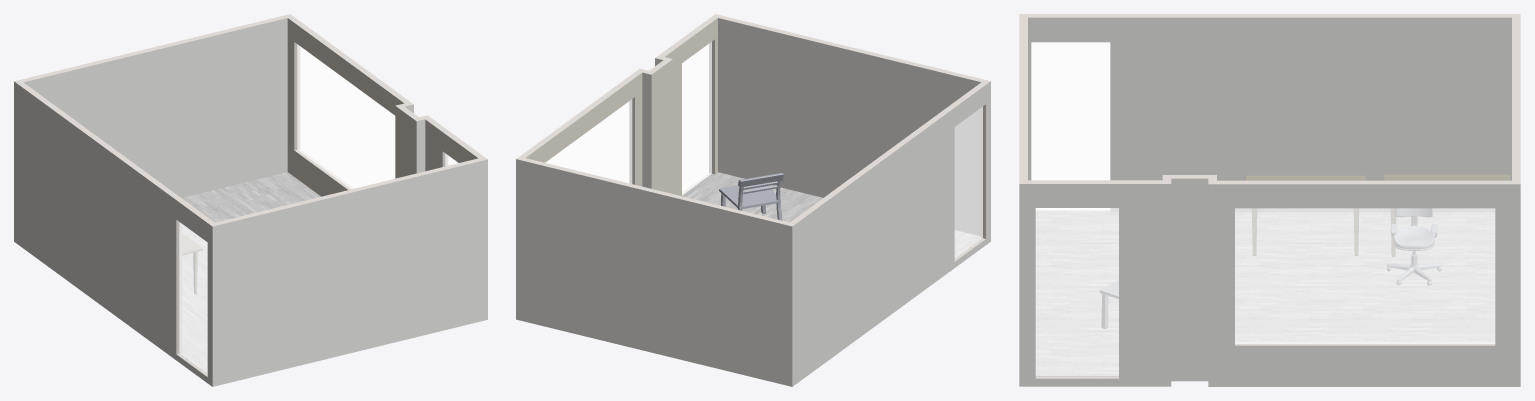
The model's file is MusicRoom1Model.glb.
3 renders of one model, left to right at view 1: azimuth 30°, elevation 25°; view 2: azimuth 150°, elevation 25°; view 3: azimuth 270°, elevation 25°, orthographic. The views are drawn at different scales.
Visible parts, largest first — view 1: wall_7, wall_14, wall_2, window_0, window_2, floor_Other, wall_10, door_1, door_3, wall_13, wall_11, wall_8 (+6 smaller); view 2: wall_3, wall_22, wall_2, door_0, door_2, window_0, door_1, door_3, window_2, wall_10, wall_8, floor_Other (+8 smaller); view 3: wall_12, floor_Other, window_0, window_2, wall_1, wall_4, door_0, door_2, door_1, door_3, wall_0, wall_11 (+8 smaller).
Part boxes in pixels (left/top/right/bottom): wall_7: left=212, top=159, right=487, bottom=386; wall_14: left=24, top=18, right=287, bottom=197; wall_2: left=14, top=81, right=212, bottom=386; window_0: left=297, top=44, right=394, bottom=188; window_2: left=297, top=45, right=394, bottom=188; floor_Other: left=180, top=172, right=320, bottom=373; wall_10: left=287, top=18, right=403, bottom=196; door_1: left=179, top=222, right=207, bottom=373; door_3: left=179, top=222, right=207, bottom=373; wall_13: left=14, top=81, right=214, bottom=376; wall_11: left=288, top=14, right=412, bottom=189; wall_8: left=395, top=106, right=416, bottom=178; wall_3: left=516, top=159, right=792, bottom=386; wall_22: left=718, top=18, right=980, bottom=235; wall_2: left=792, top=81, right=990, bottom=386; door_0: left=682, top=42, right=711, bottom=194; door_2: left=682, top=42, right=711, bottom=194; window_0: left=546, top=99, right=631, bottom=183; door_1: left=955, top=107, right=982, bottom=257; door_3: left=955, top=107, right=982, bottom=257; window_2: left=546, top=100, right=631, bottom=183; wall_10: left=526, top=73, right=642, bottom=186; wall_8: left=651, top=59, right=672, bottom=193; floor_Other: left=682, top=172, right=982, bottom=258; wall_12: left=1028, top=17, right=1511, bottom=211; floor_Other: left=1036, top=211, right=1494, bottom=376; window_0: left=1235, top=208, right=1494, bottom=343; window_2: left=1235, top=208, right=1494, bottom=343; wall_1: left=1208, top=184, right=1520, bottom=386; wall_4: left=1019, top=184, right=1171, bottom=386; door_0: left=1036, top=208, right=1118, bottom=376; door_2: left=1036, top=208, right=1118, bottom=376; door_1: left=1031, top=42, right=1109, bottom=179; door_3: left=1031, top=42, right=1109, bottom=179; wall_0: left=1171, top=178, right=1208, bottom=381; wall_11: left=1209, top=180, right=1519, bottom=345.
Bounding box in the file's own units: 4.66 × 2.59 × 5.8.
Materials: 24 (1 with a texture image).
